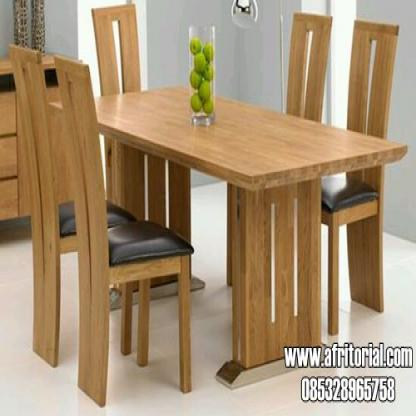Dining Table: (7, 11, 416, 340)
